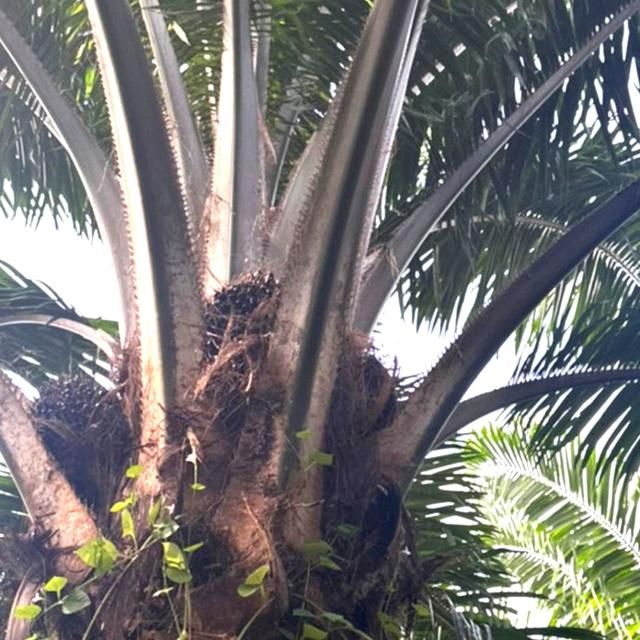almost: (198, 272, 326, 414), (30, 370, 132, 499)
